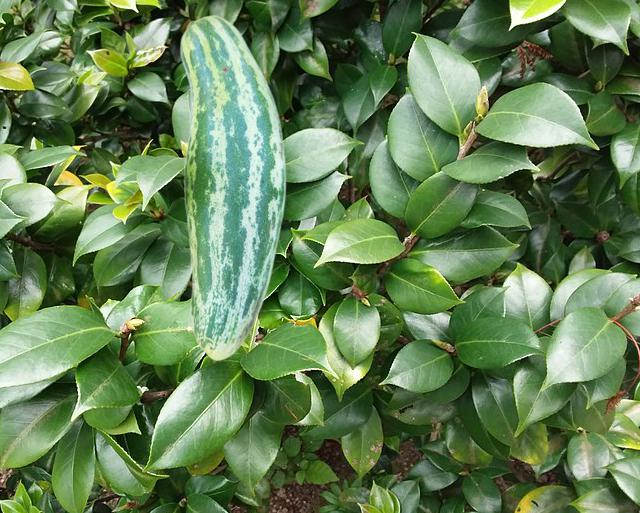cucumber: (179, 14, 285, 360)
